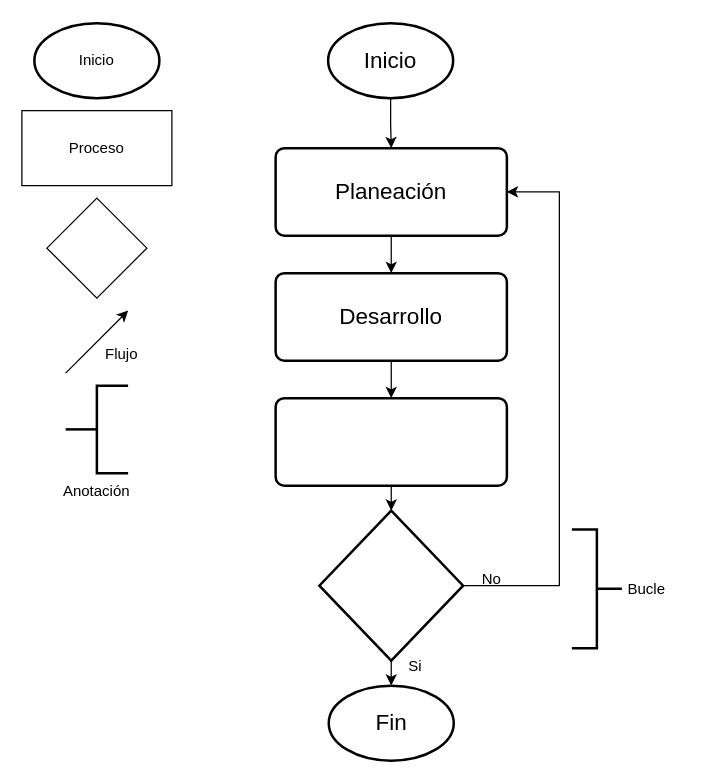
This 706x783 diagram has some shape labels left out. Each missing label, with the centre of its shape:
"Desición" belongs at [96,247].
"Esta terminado?" belongs at [391,585].
"Revisión" belongs at [391,441].
